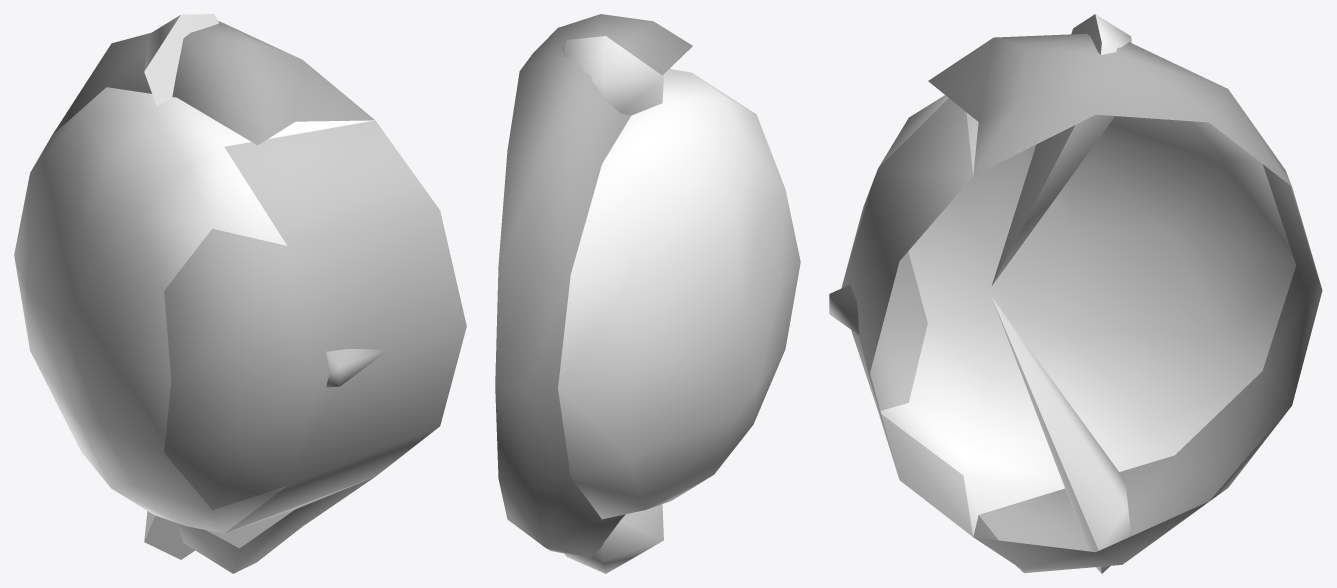
File: girl06b.dae
The picture shows the model from 3 angles, left to right: view 1: azimuth 30°, elevation 25°; view 2: azimuth 150°, elevation 25°; view 3: azimuth 270°, elevation 25°; orthographic projection. The views are drawn at different scales.
Parts seen in each view (by area): view 1: vsn_mesh_0_, vsn_mesh_1_, vsn_mesh_2_; view 2: vsn_mesh_0_; view 3: vsn_mesh_0_, vsn_mesh_1_, vsn_mesh_2_.
Part boxes in pixels (x1=…): vsn_mesh_0_: x1=14, y1=14, x2=374, y2=573; vsn_mesh_1_: x1=224, y1=120, x2=466, y2=533; vsn_mesh_2_: x1=164, y1=228, x2=316, y2=509; vsn_mesh_0_: x1=495, y1=14, x2=800, y2=573; vsn_mesh_0_: x1=878, y1=14, x2=1322, y2=573; vsn_mesh_1_: x1=829, y1=98, x2=973, y2=536; vsn_mesh_2_: x1=841, y1=170, x2=927, y2=410.
Size of the model in its own units: 15.5 by 26.71 by 21.59.
3 materials, 1 textured.
